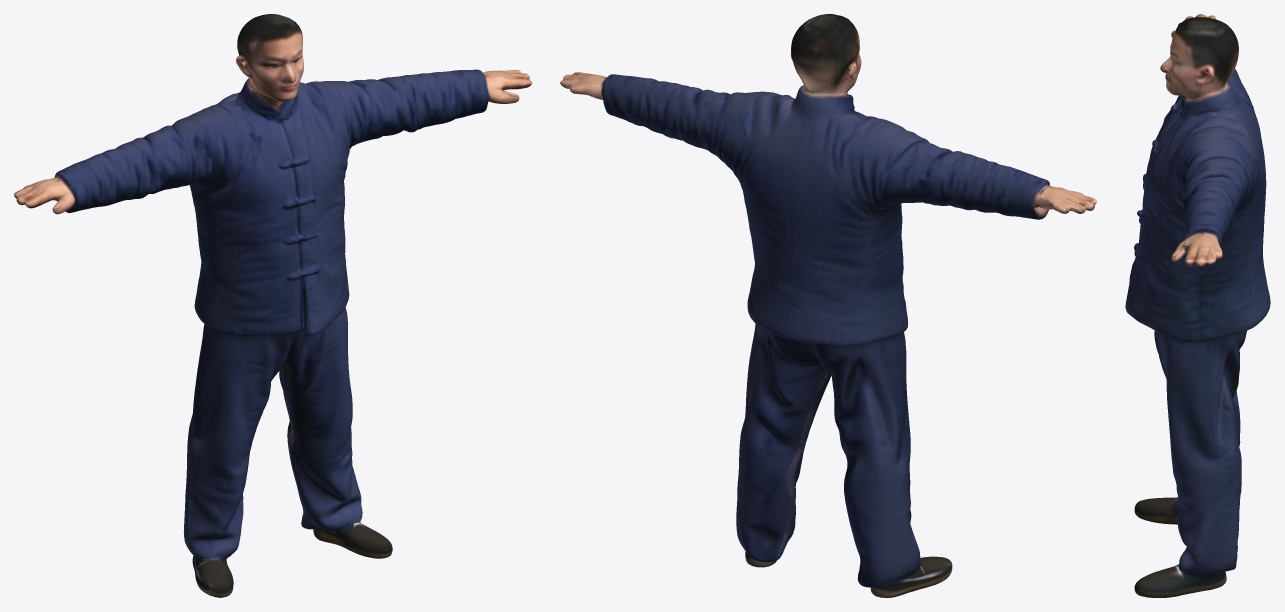
Rendered from militia_apose.glb.
3 renders of one model, left to right at view 1: azimuth 30°, elevation 25°; view 2: azimuth 150°, elevation 25°; view 3: azimuth 270°, elevation 25°, orthographic. The views are drawn at different scales.
Parts seen in each view (by area): view 1: geometry_0; view 2: geometry_0; view 3: geometry_0.
Boxes of the visible parts, bbox=[...] form: geometry_0: bbox=[14, 14, 531, 597]; geometry_0: bbox=[560, 14, 1096, 597]; geometry_0: bbox=[1125, 14, 1270, 597].
Size of the model in its own units: 1.75 by 1.75 by 0.432.
Materials: 1 (1 with a texture image).
